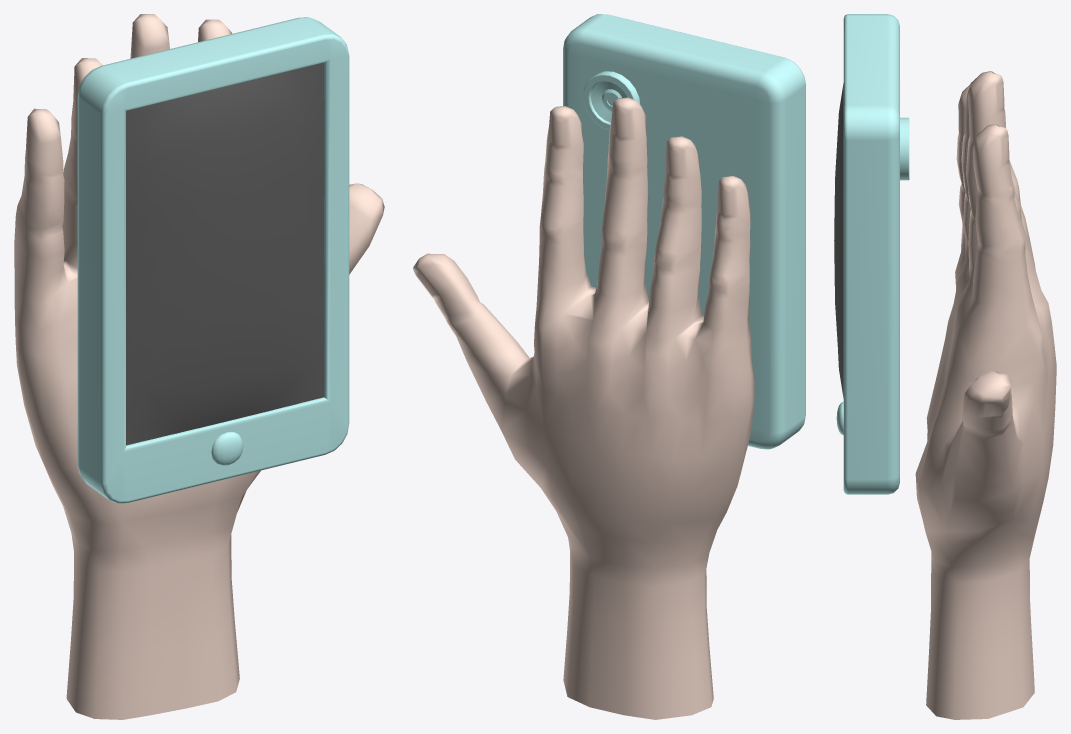
File: hand_main_model.fbx
3 renders of one model, left to right at view 1: azimuth 30°, elevation 25°; view 2: azimuth 150°, elevation 25°; view 3: azimuth 270°, elevation 25°, orthographic. The views are drawn at different scales.
Visible parts, largest first — view 1: screen, hand, phone1; view 2: hand, phone1; view 3: hand, phone1, screen.
Part boxes in pixels (x1=…): screen: x1=126, y1=63, x2=324, y2=445; hand: x1=14, y1=14, x2=384, y2=719; phone1: x1=77, y1=17, x2=349, y2=503; hand: x1=413, y1=97, x2=754, y2=719; phone1: x1=563, y1=14, x2=805, y2=449; hand: x1=915, y1=71, x2=1056, y2=719; phone1: x1=836, y1=14, x2=909, y2=494; screen: x1=834, y1=83, x2=843, y2=398.
Size of the model in its own units: 22.25 by 39.68 by 12.73.
